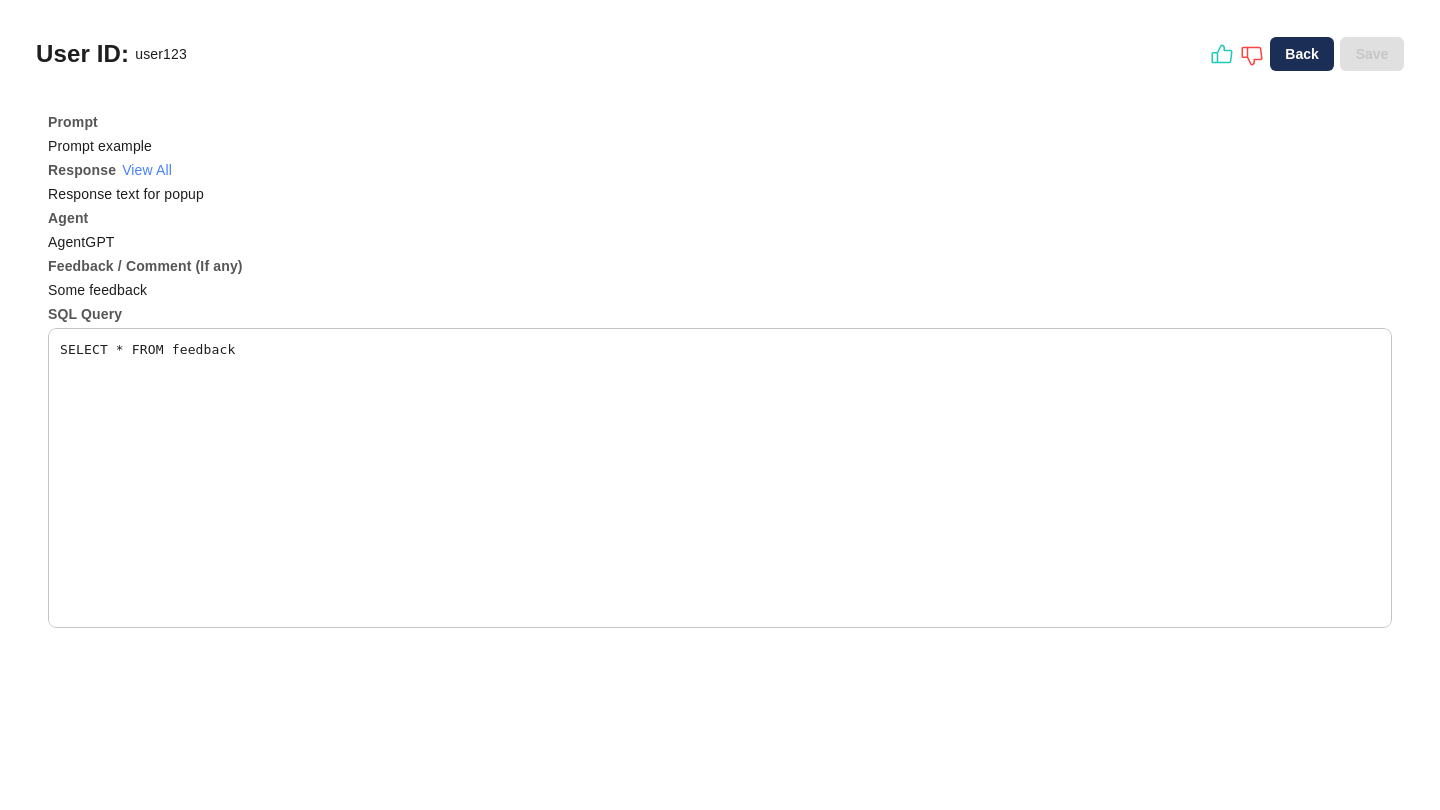
Test case: FeedbackDetails Component › enables Save button when SQL query changes
Replace the text in the text box with "SELECT * FROM changed" at (720, 480), box x1=60 y1=340 x2=1380 y2=620
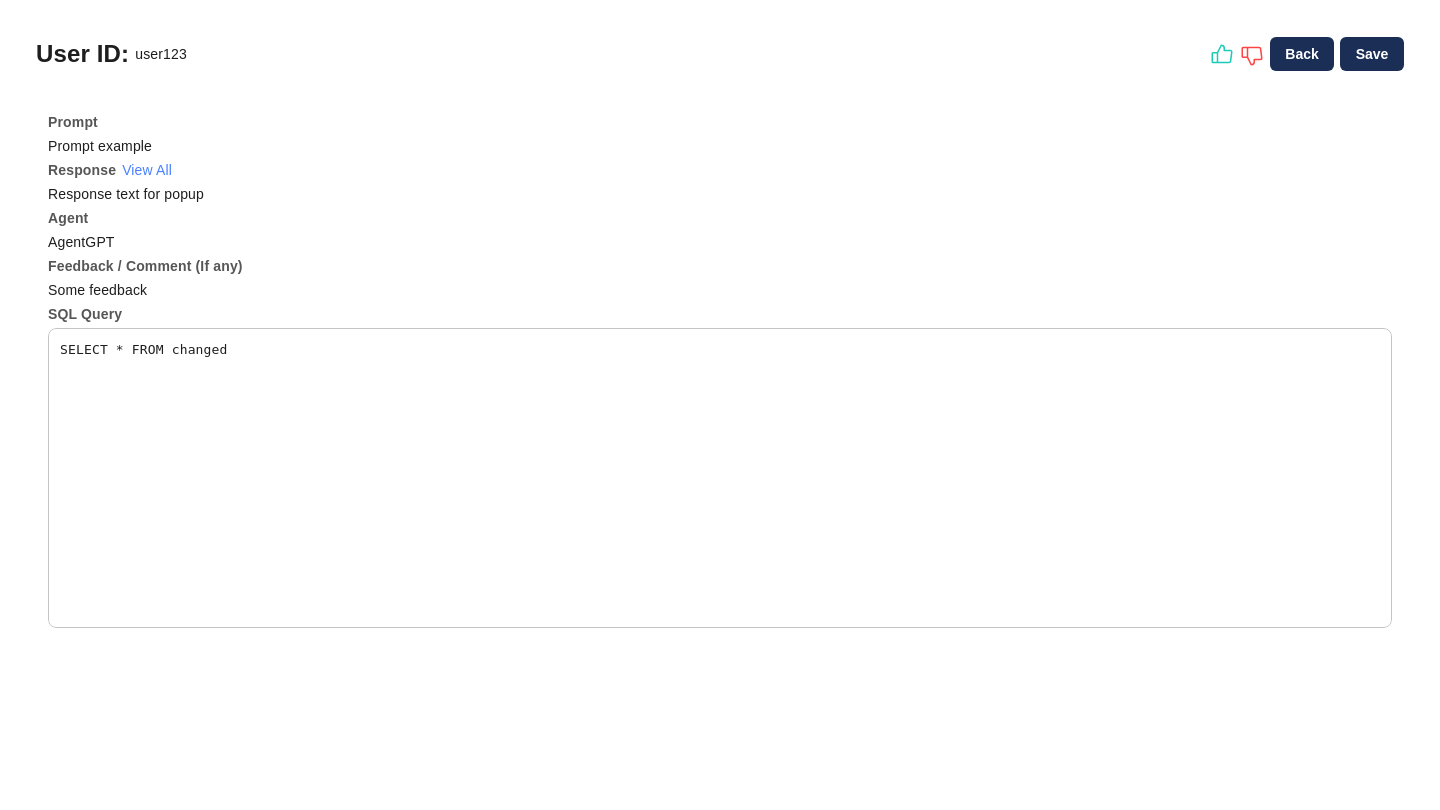
Expected: the button "Save" is enabled, x1=1340 y1=37 x2=1404 y2=71
